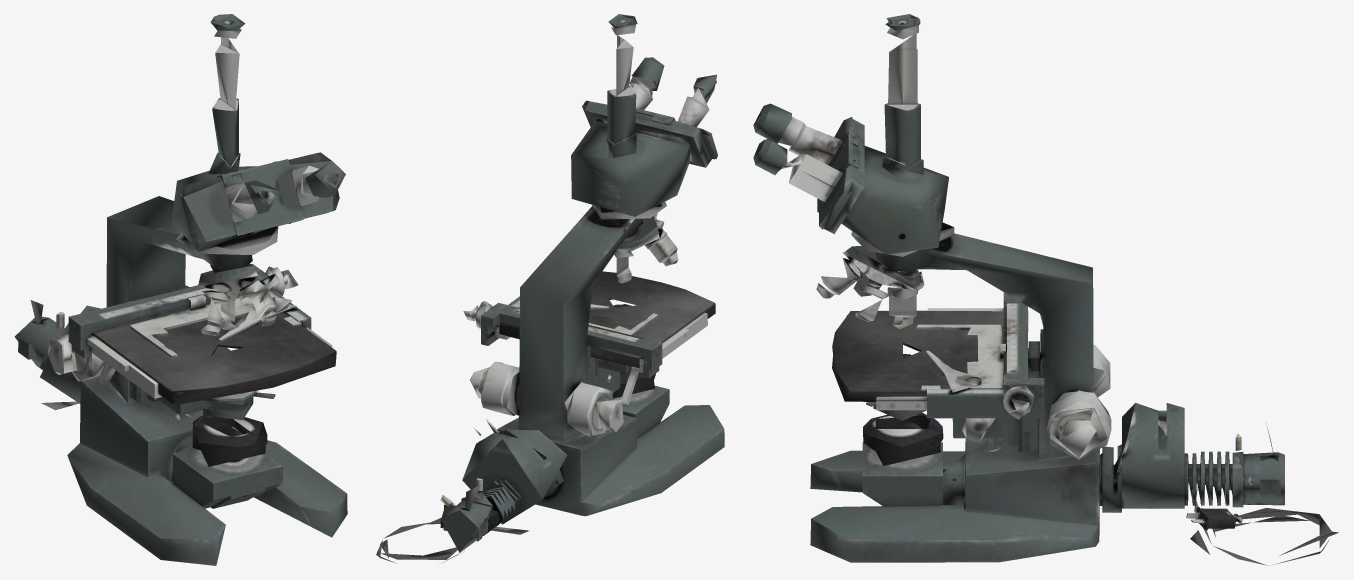
The model's file is industrial_microscope.glb.
3 renders of one model, left to right at view 1: azimuth 30°, elevation 25°; view 2: azimuth 150°, elevation 25°; view 3: azimuth 270°, elevation 25°, orthographic. The views are drawn at different scales.
Parts seen in each view (by area): view 1: industrial_microscope; view 2: industrial_microscope; view 3: industrial_microscope.
Boxes of the visible parts, x1=… form: industrial_microscope: x1=14, y1=14, x2=347, y2=565; industrial_microscope: x1=376, y1=14, x2=724, y2=563; industrial_microscope: x1=753, y1=14, x2=1338, y2=565.
Size of the model in its own units: 0.2145 by 0.4611 by 0.4926.
Materials: 1 (1 with a texture image).
